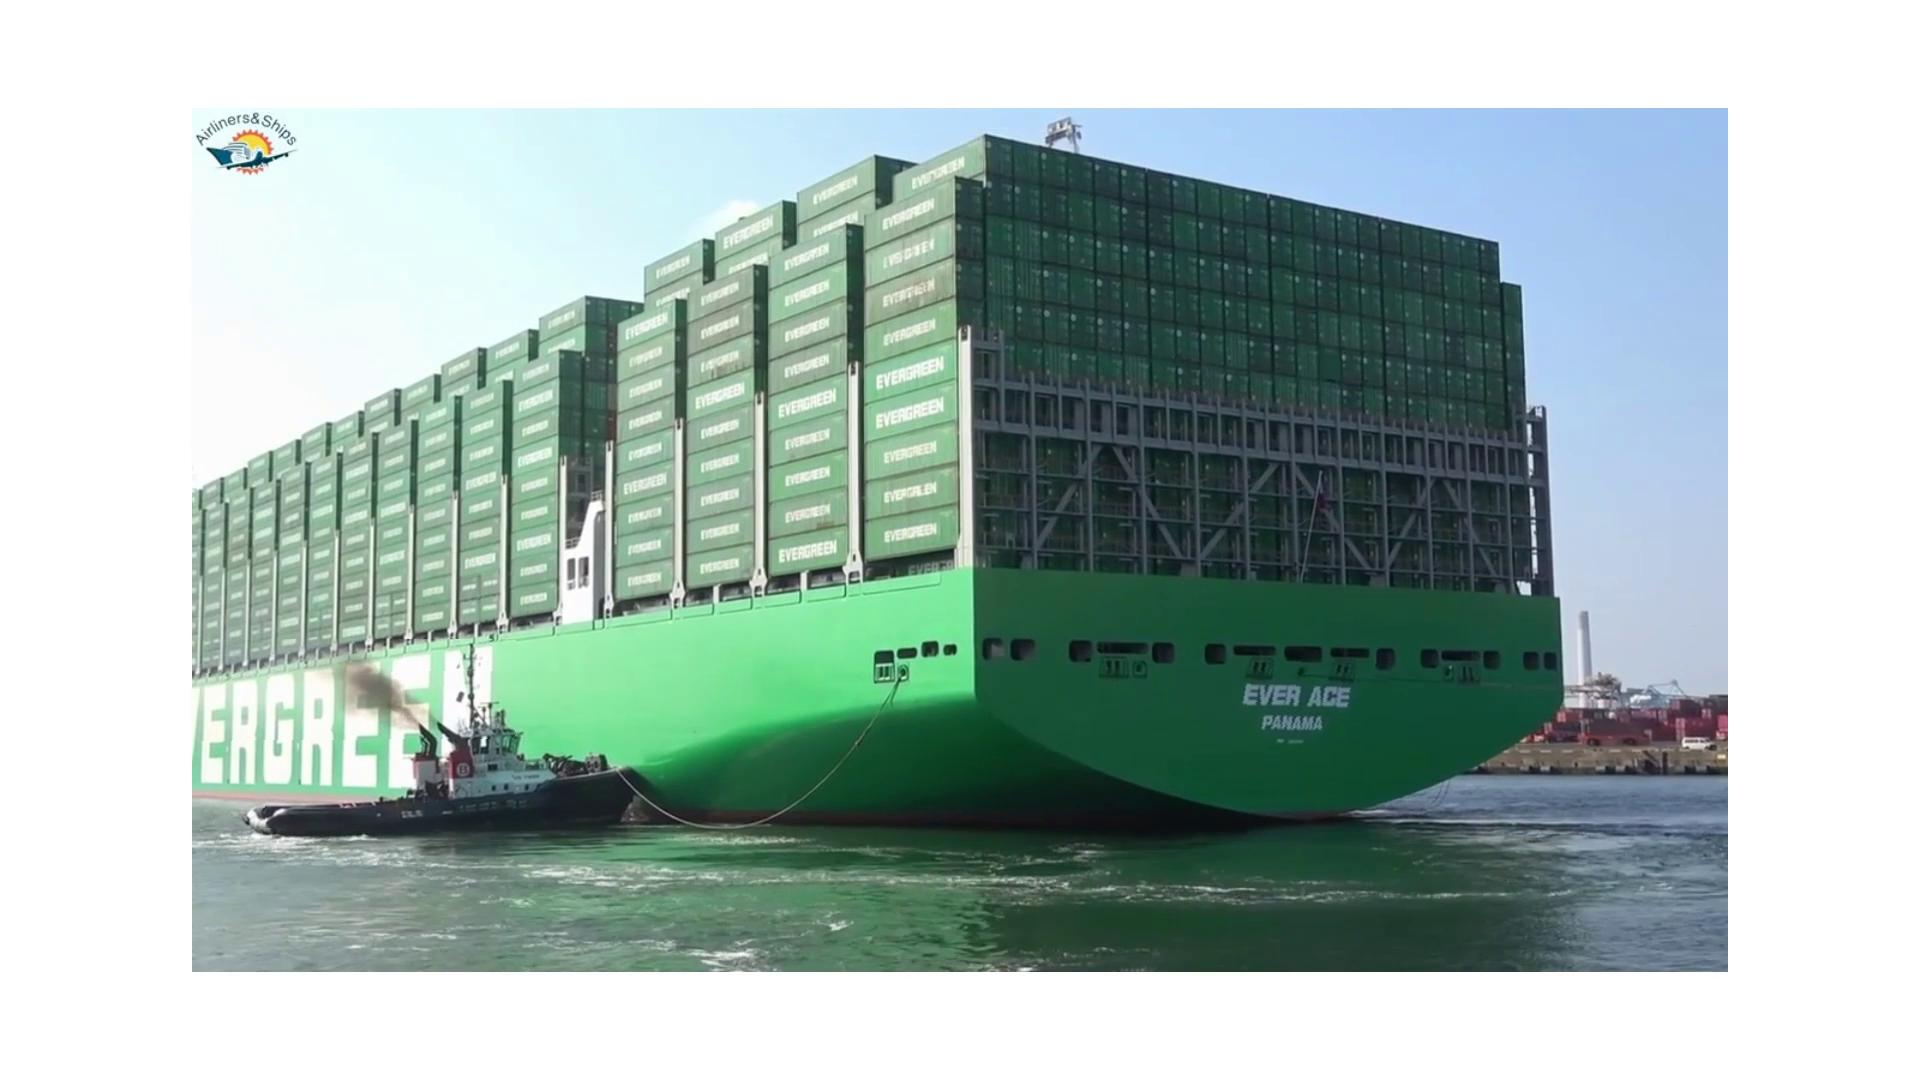OCR: (200, 639, 516, 829), (1233, 658, 1393, 750)
